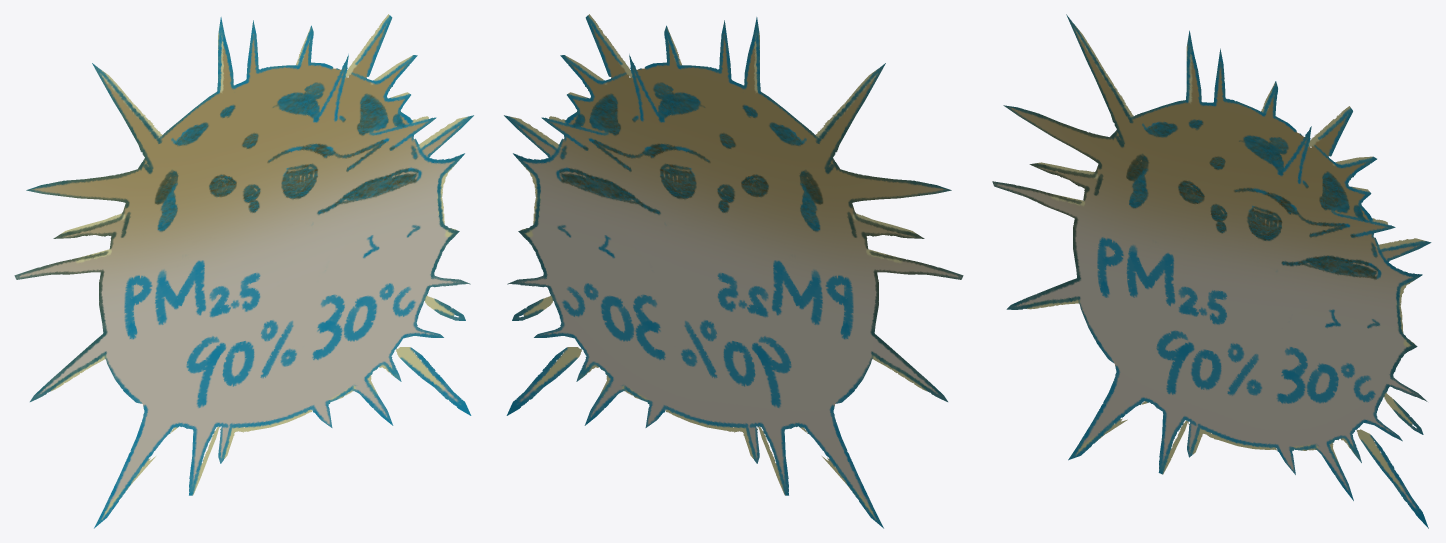
Rendered from puffer.fbx.
3 renders of one model, left to right at view 1: azimuth 30°, elevation 25°; view 2: azimuth 150°, elevation 25°; view 3: azimuth 330°, elevation 25°, orthographic. The views are drawn at different scales.
Parts seen in each view (by area): view 1: mask21; view 2: mask21; view 3: mask21.
Part boxes in pixels (box(x1,y1,x2,y2)): mask21: box(14, 14, 473, 528); mask21: box(504, 14, 963, 528); mask21: box(992, 14, 1431, 528).
Size of the model in its own units: 9.2 by 9.21 by 1.53e-07.
Materials: 1 (1 with a texture image).
